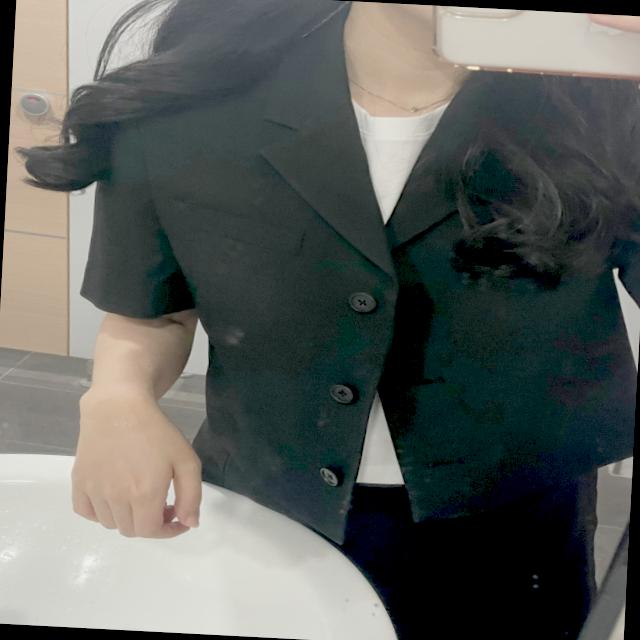blazer: (67, 13, 640, 560)
skirt: (213, 457, 610, 640)
